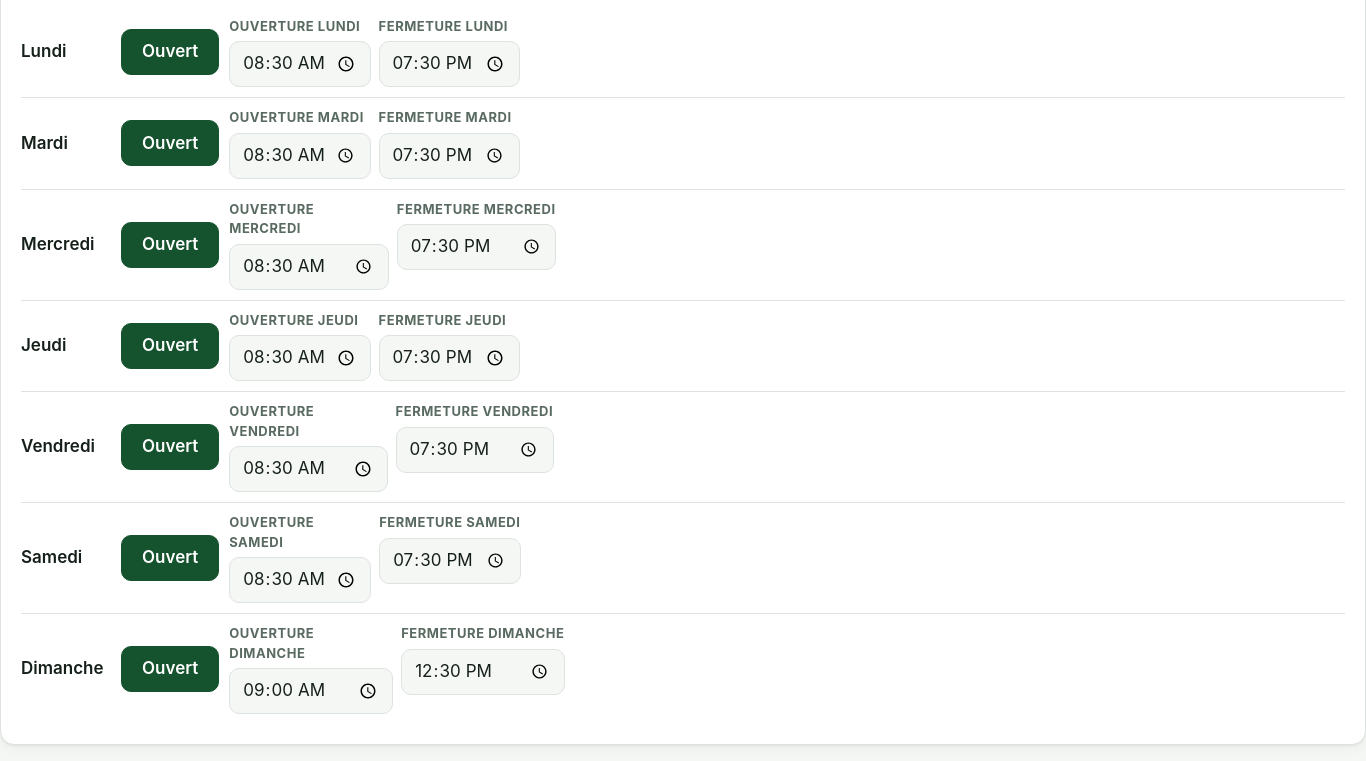
Test: reglage des horaires › ferme un jour et fait disparaitre ses heures
The width and height of the screenshot is (1366, 761).
(page scrolled)
Expected: the time field labelled "Ouverture dimanche" is shown, [229,668,393,714]
Step 1. Click the button "Ouvert" below "Ouverture dimanche" → {"x": 170, "y": 669}, box [121,646,219,692]
(page scrolled)
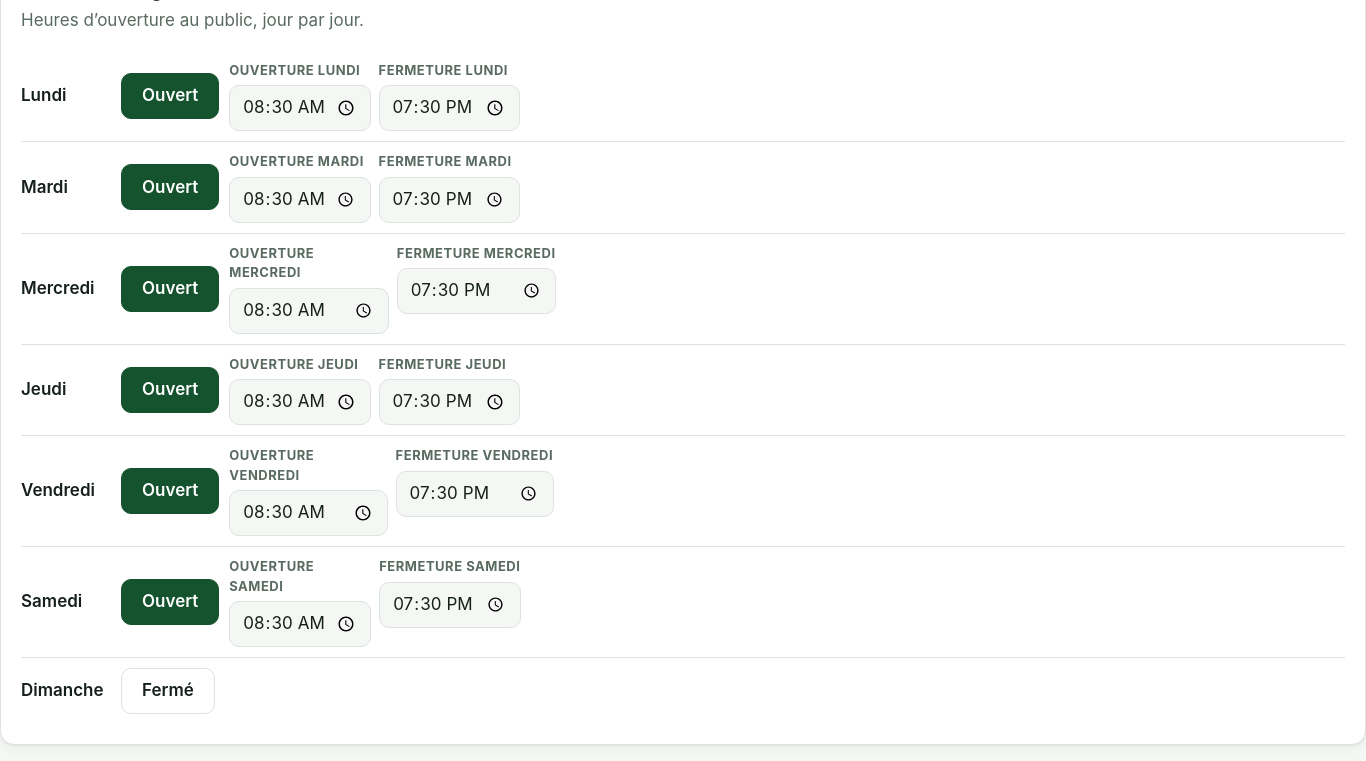
Expected: the label labelled "Ouverture dimanche" is gone
